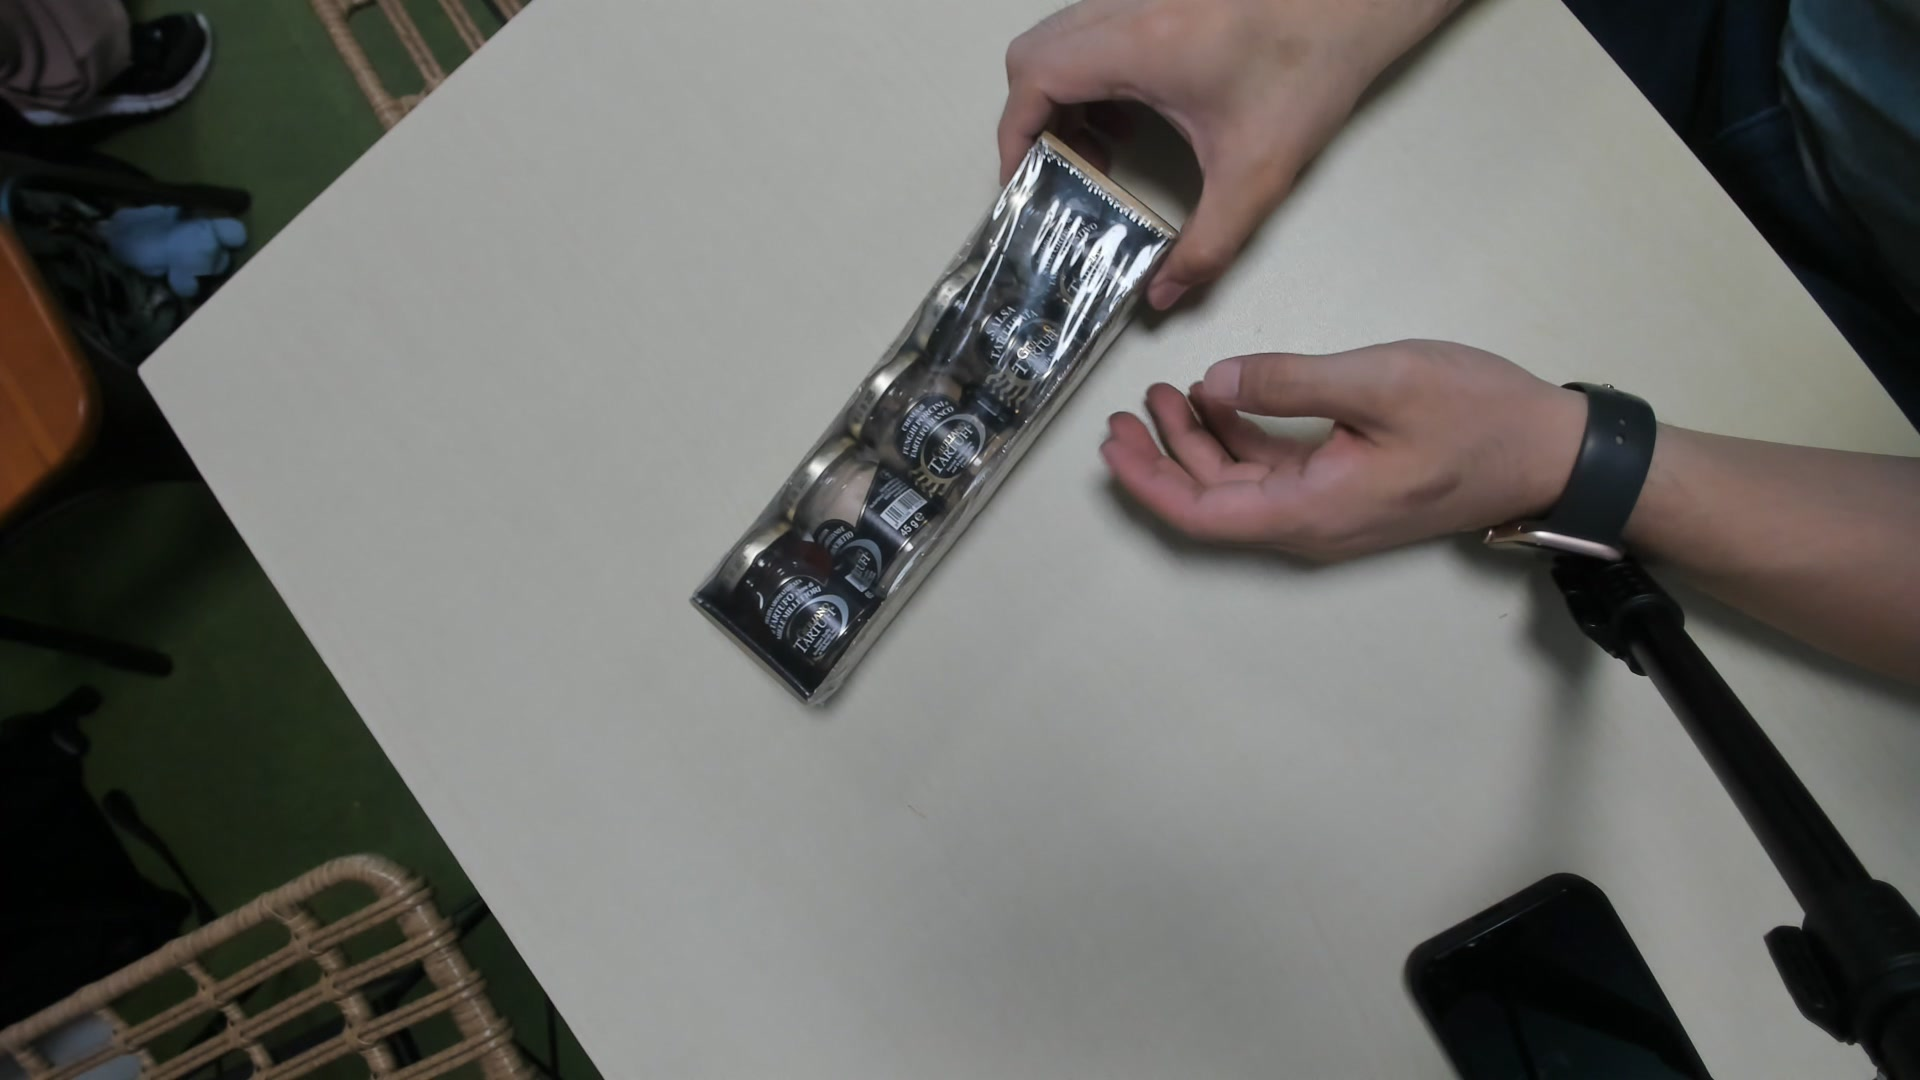OtherSauceDressing_500-599g_NonHalal_NonHealthy: (680, 144, 1179, 707)
